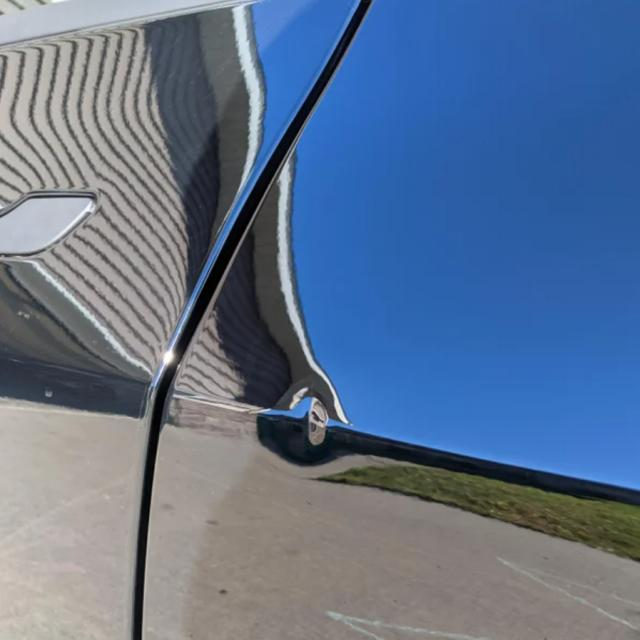dents: (279, 370, 338, 457)
